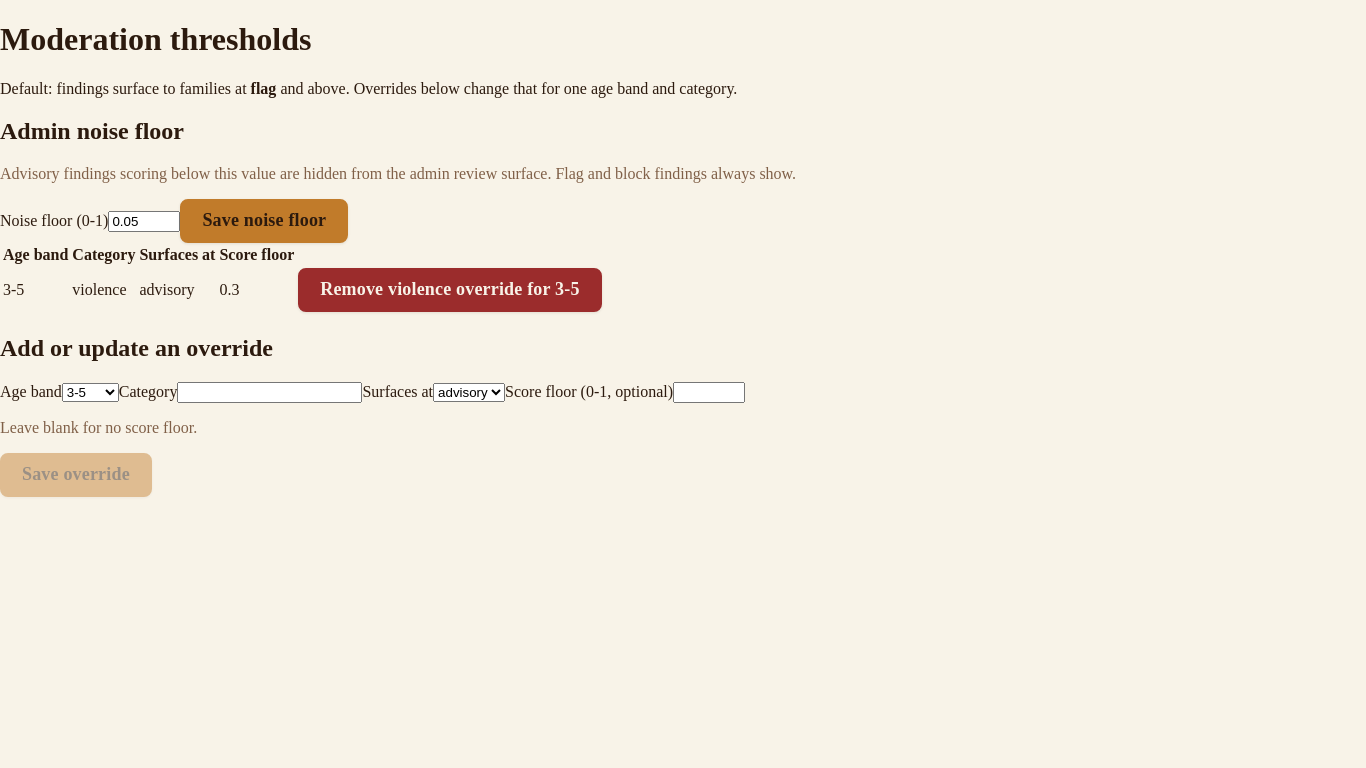
Test: ModerationThresholdsPage › surfaces a noise-floor save failure as a scoped alert without wiping the page
The image size is (1366, 768).
Expected: the text "surface to families at" is shown, [0,80,251,97]
Replace the text in the number field labelled "Noise floor (0-1)" with "0.3" at [144, 222], box [108,211,180,232]
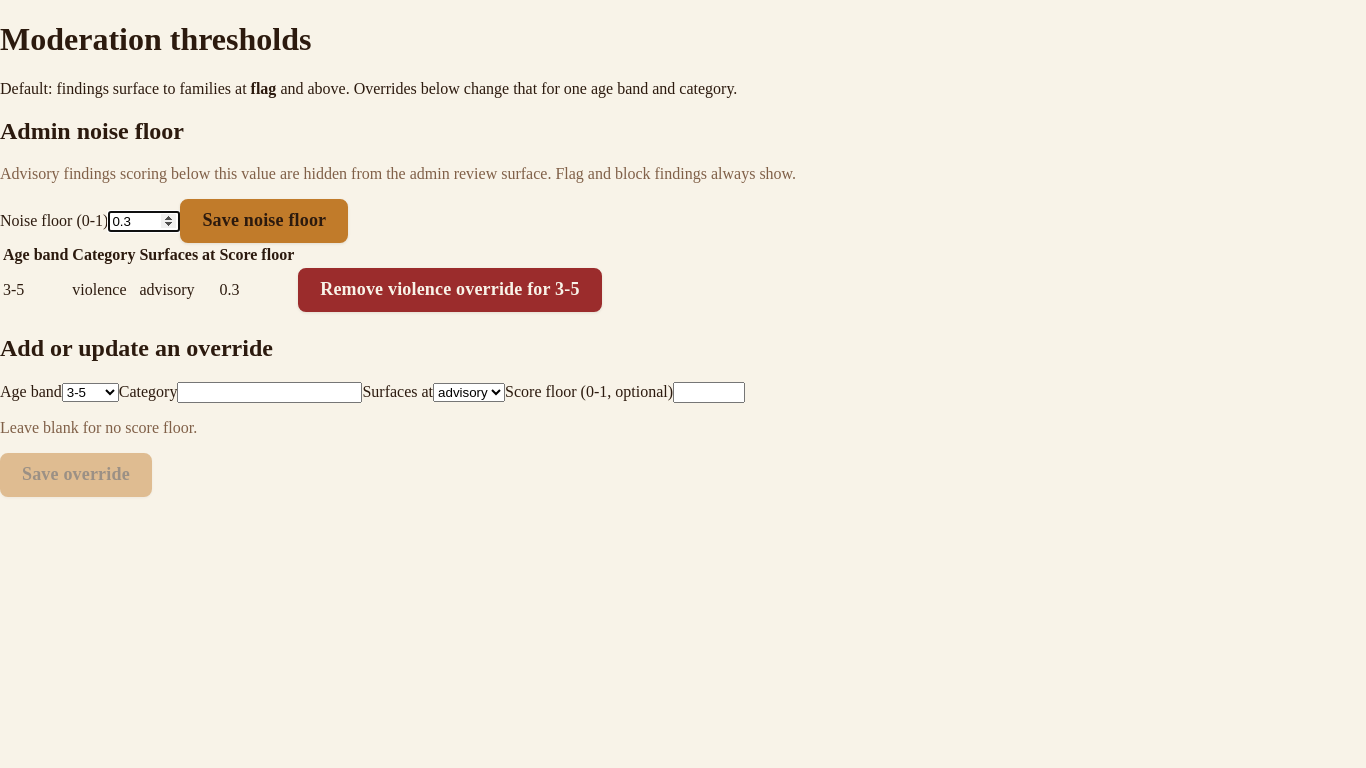
Click the button "Save noise floor" at [264, 221], box [180,199,348,243]
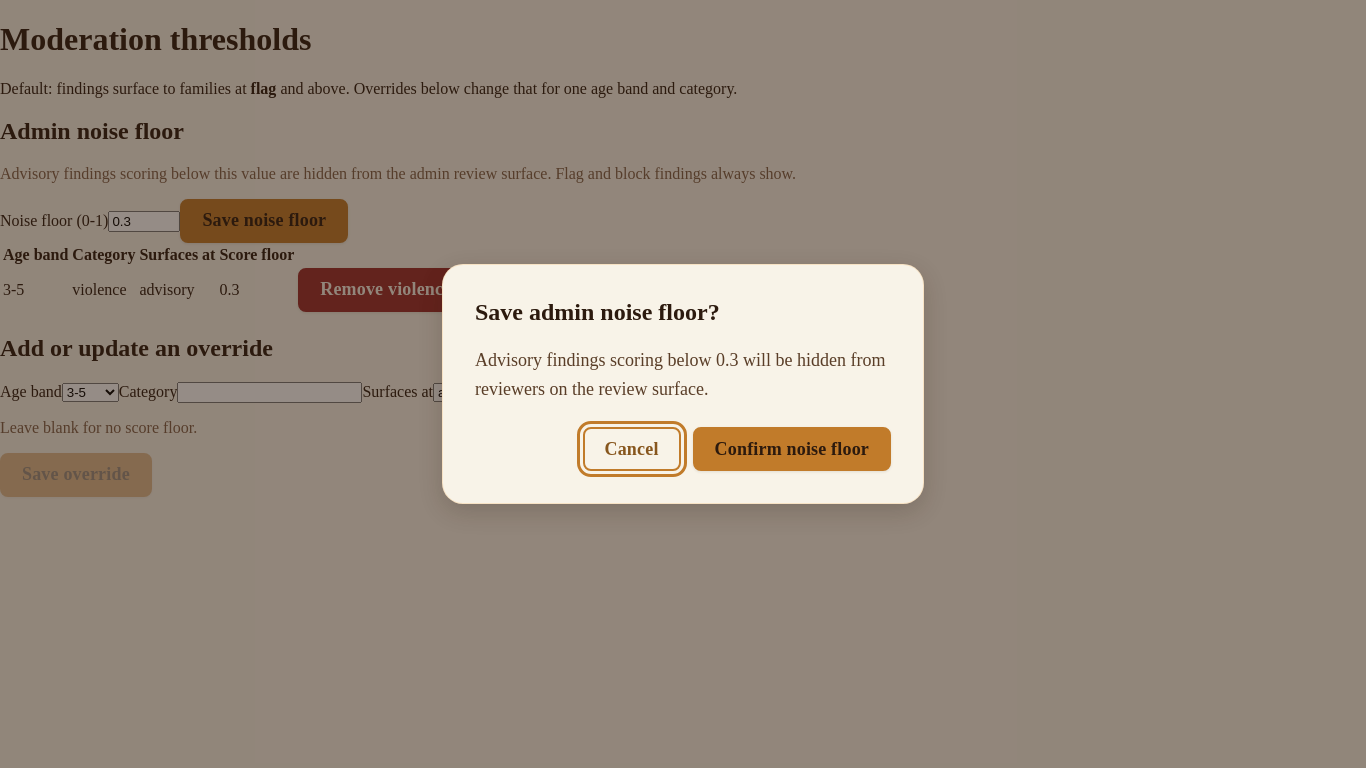
Click the button "Confirm noise floor" at [792, 449], box [693,427,891,471]
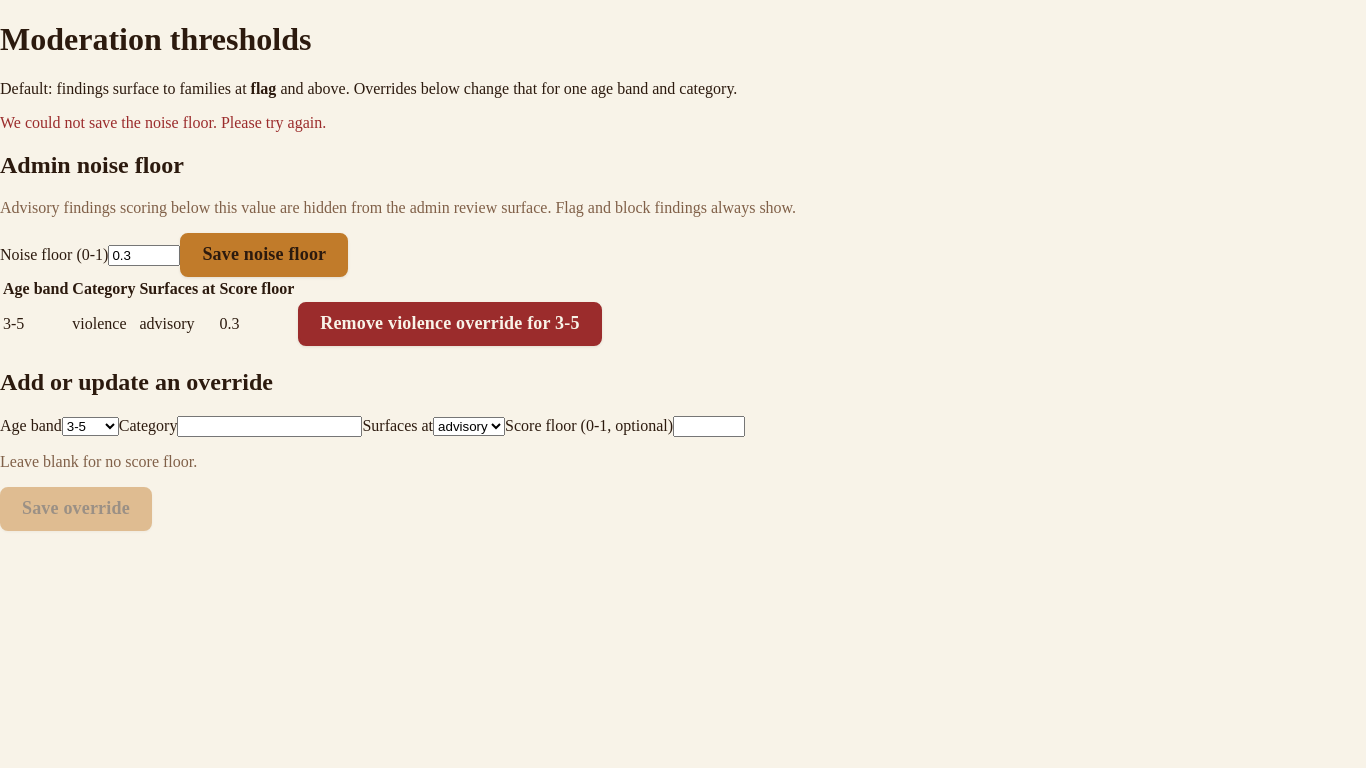
Expected: the text "violence" is shown, [71,301,136,347]
Expected: the message shows "could not save the noise floor", [0,114,326,131]
